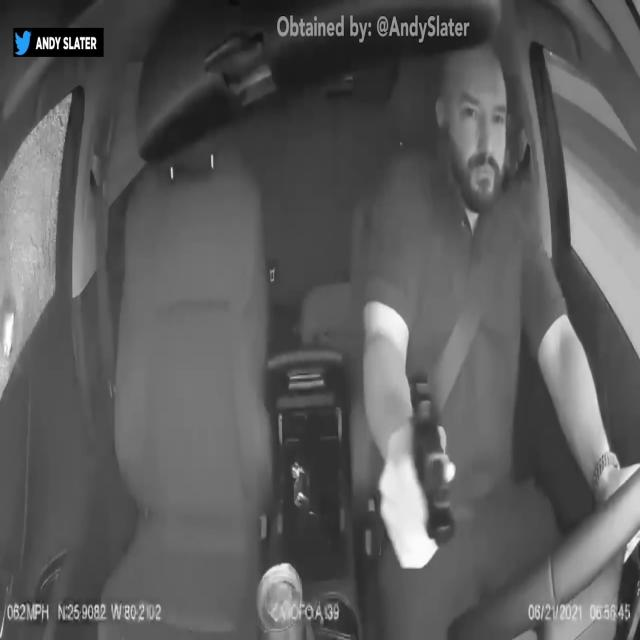senjata_api: (410, 372, 457, 544)
